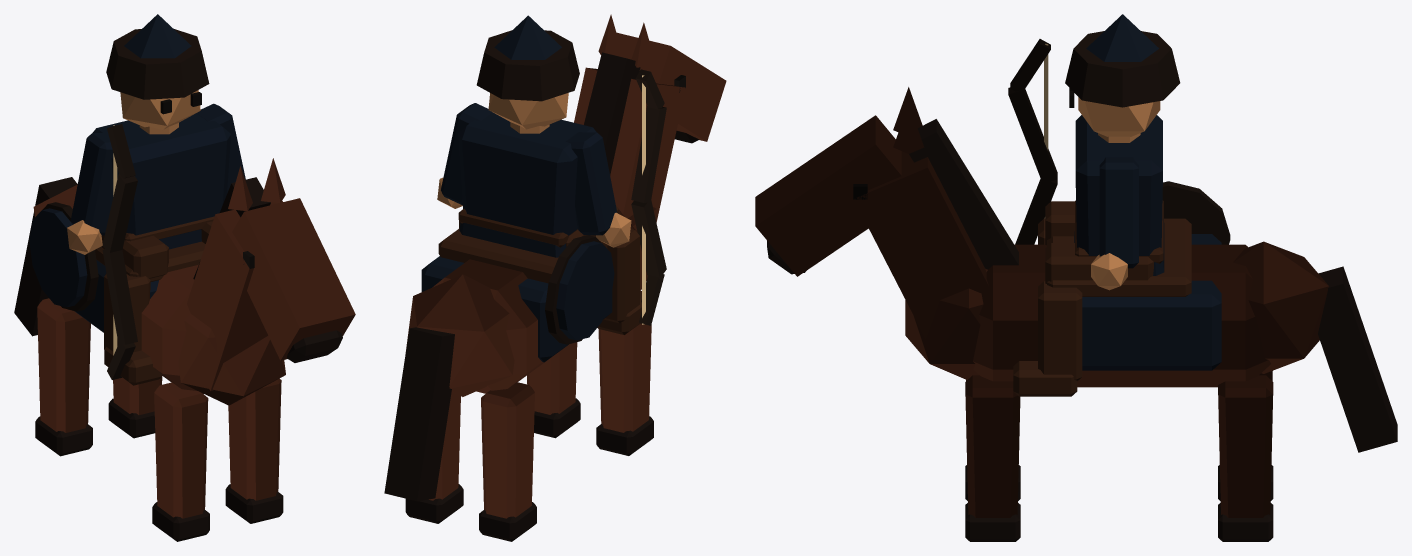
File: horse_archer.obj
3 views of the same model, side by side, from view 1: azimuth 30°, elevation 25°; view 2: azimuth 150°, elevation 25°; view 3: azimuth 270°, elevation 25° (orthographic). The views are drawn at different scales.
Parts seen in each view (by area): view 1: horse, body, tool; view 2: horse, body, tool; view 3: horse, body, tool.
Boxes of the visible parts, x1,y1,x2,y2 form: horse: (14,158,355,541); body: (29,14,245,385); tool: (102,124,137,379); horse: (384,14,726,541); body: (437,15,641,344); tool: (631,69,666,325); horse: (755,87,1397,541); body: (1013,14,1230,396); tool: (1008,39,1057,244).
Bounding box in the file's own units: 0.2394 × 0.5605 × 0.651.
